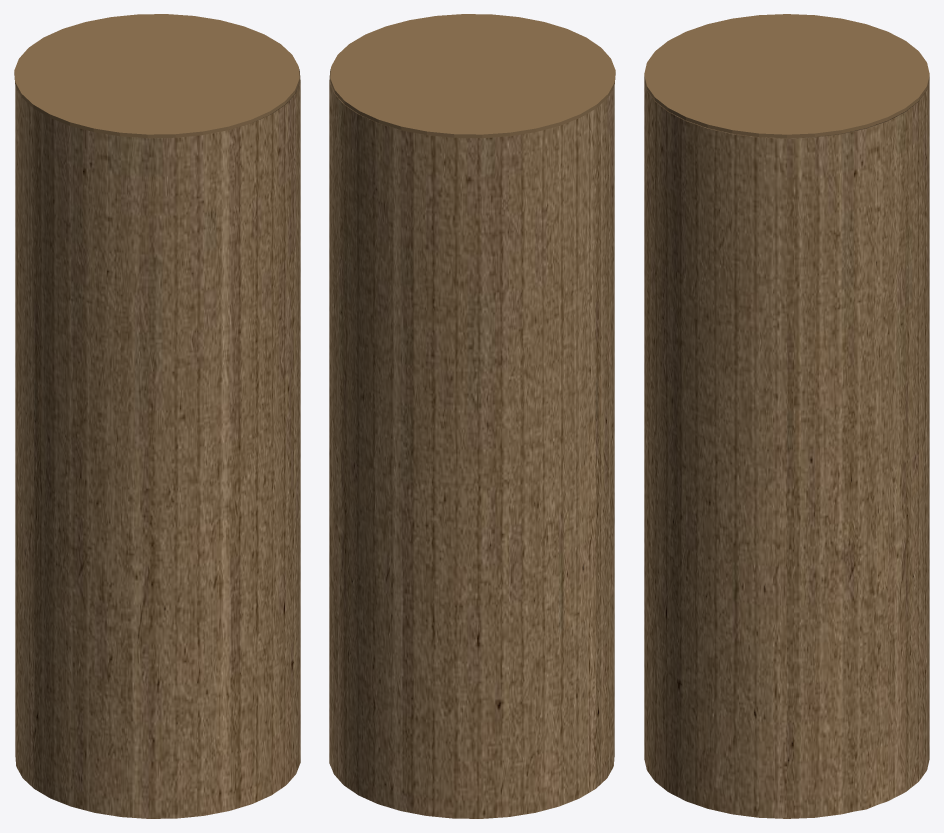
File: victory-pedestal.glb
3 renders of one model, left to right at view 1: azimuth 30°, elevation 25°; view 2: azimuth 150°, elevation 25°; view 3: azimuth 270°, elevation 25°, orthographic.
Parts seen in each view (by area): view 1: Top; view 2: Top; view 3: Top.
Part boxes in pixels (x1,y1,x2,y2): Top: (14, 14, 300, 818); Top: (329, 14, 615, 818); Top: (644, 14, 929, 818).
Size of the model in its own units: 0.2342 by 0.6171 by 0.2333.
1 material, 1 textured.
